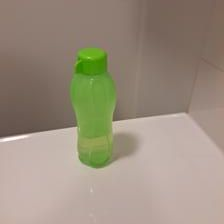bottle: (65, 46, 120, 170)
